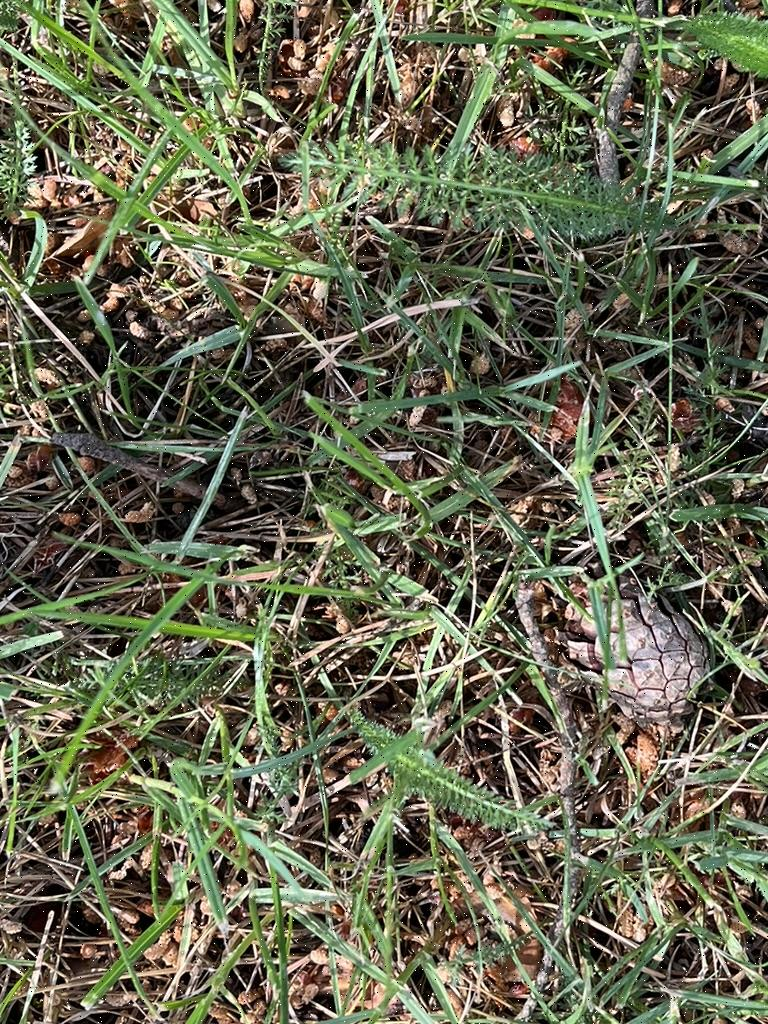pine: (534, 570, 721, 733)
